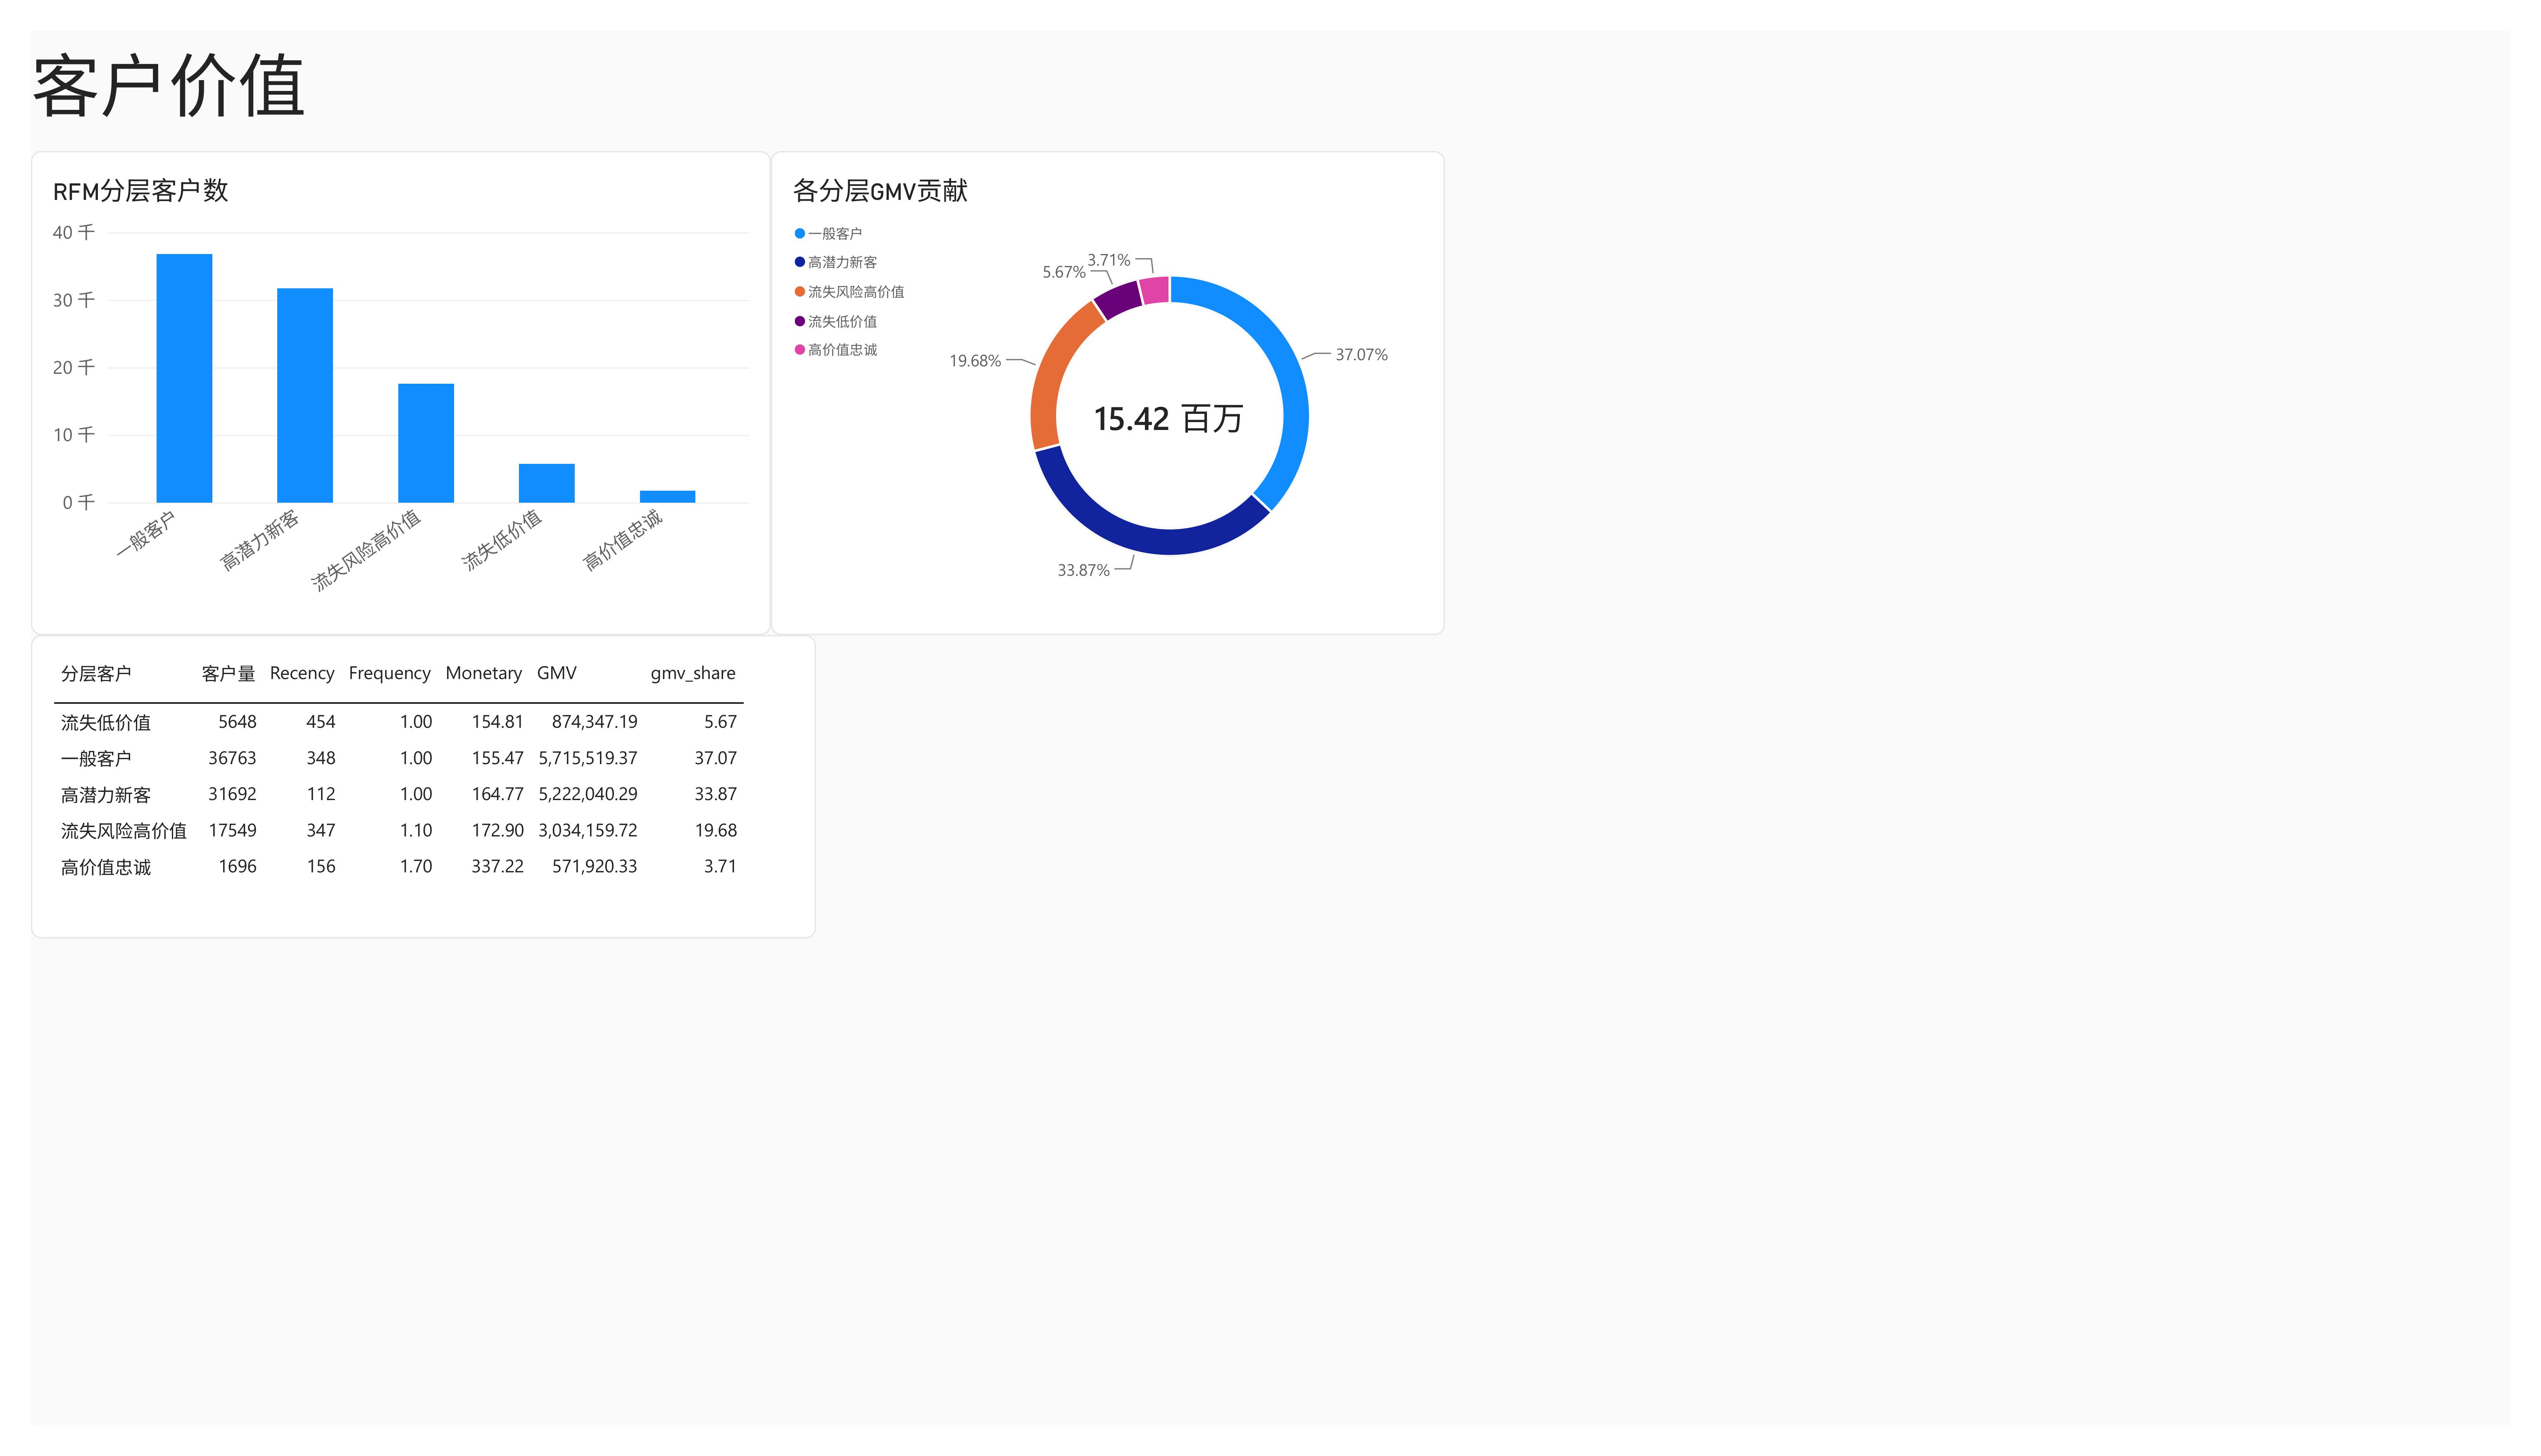

This screenshot's page, from the dashboard's own definition file:
{"tool":"powerbi","page":{"name":"客户价值","canvas":[1920,1080],"ordinal":2},"visuals":[{"type":"clusteredColumnChart","title":"RFM分层客户数","fields":{"Category":["rfm_segment_summary.customer_segment"],"Y":["Sum(rfm_segment_summary.customers)"]},"box":[0,93.3,573.3,375],"z":0},{"type":"donutChart","title":"各分层GMV贡献","fields":{"Category":["rfm_segment_summary.customer_segment"],"Y":["Sum(rfm_segment_summary.total_gmv)"]},"box":[573.3,93.3,521.7,375],"z":1000},{"type":"tableEx","fields":{"Values":["rfm_segment_summary.customer_segment","Sum(rfm_segment_summary.customers)","rfm_segment_summary.avg_recency","rfm_segment_summary.avg_frequency","rfm_segment_summary.avg_monetary","Sum(rfm_segment_summary.total_gmv)","rfm_segment_summary.gmv_share"]},"box":[0,468.3,608.3,235],"z":2000},{"type":"textbox","box":[0,0,572.9,112.9],"z":3000}]}

Visuals, with their boxes on the page's 1920x1080 design canvas (x1, y1, x2, y2). These are canvas units, not pixel positions in the 2541x1456 screenshot, which may show the page scaled, cropped or inside an application window:
"RFM分层客户数" clusteredColumnChart: l=0, t=93, r=573, b=468
"各分层GMV贡献" donutChart: l=573, t=93, r=1095, b=468
tableEx - rfm_segment_summary.customer_segment x Sum(rfm_segment_summary.customers): l=0, t=468, r=608, b=703
textbox: l=0, t=0, r=573, b=113
